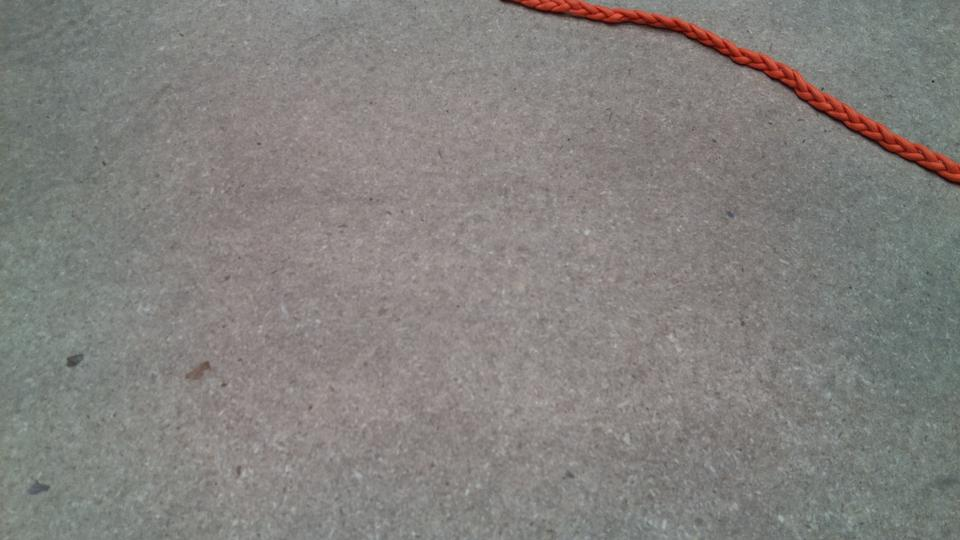rope: (533, 1, 960, 172)
